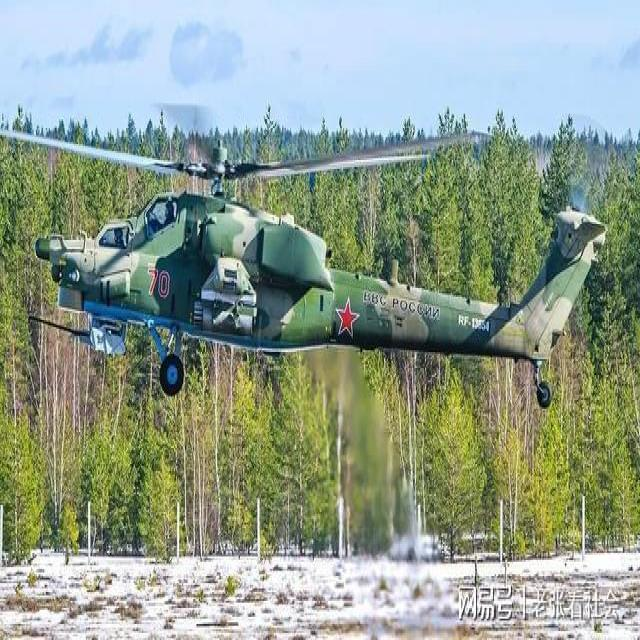MIL_HELO: (7, 107, 606, 440)
